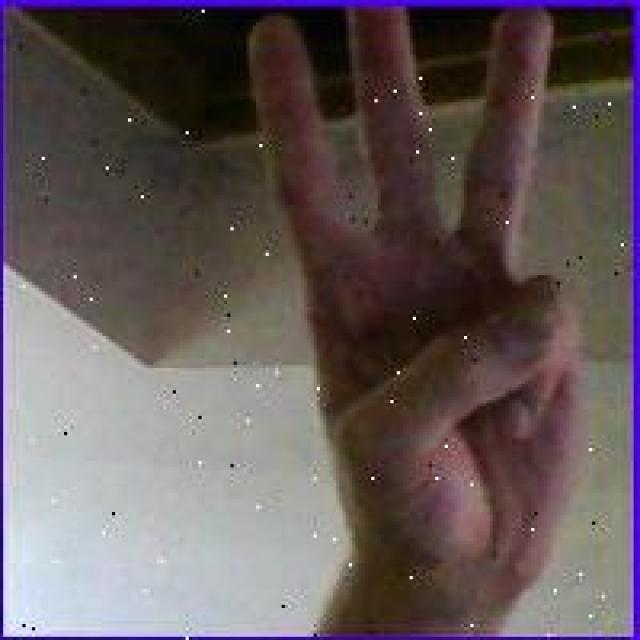W: (240, 8, 579, 616)
